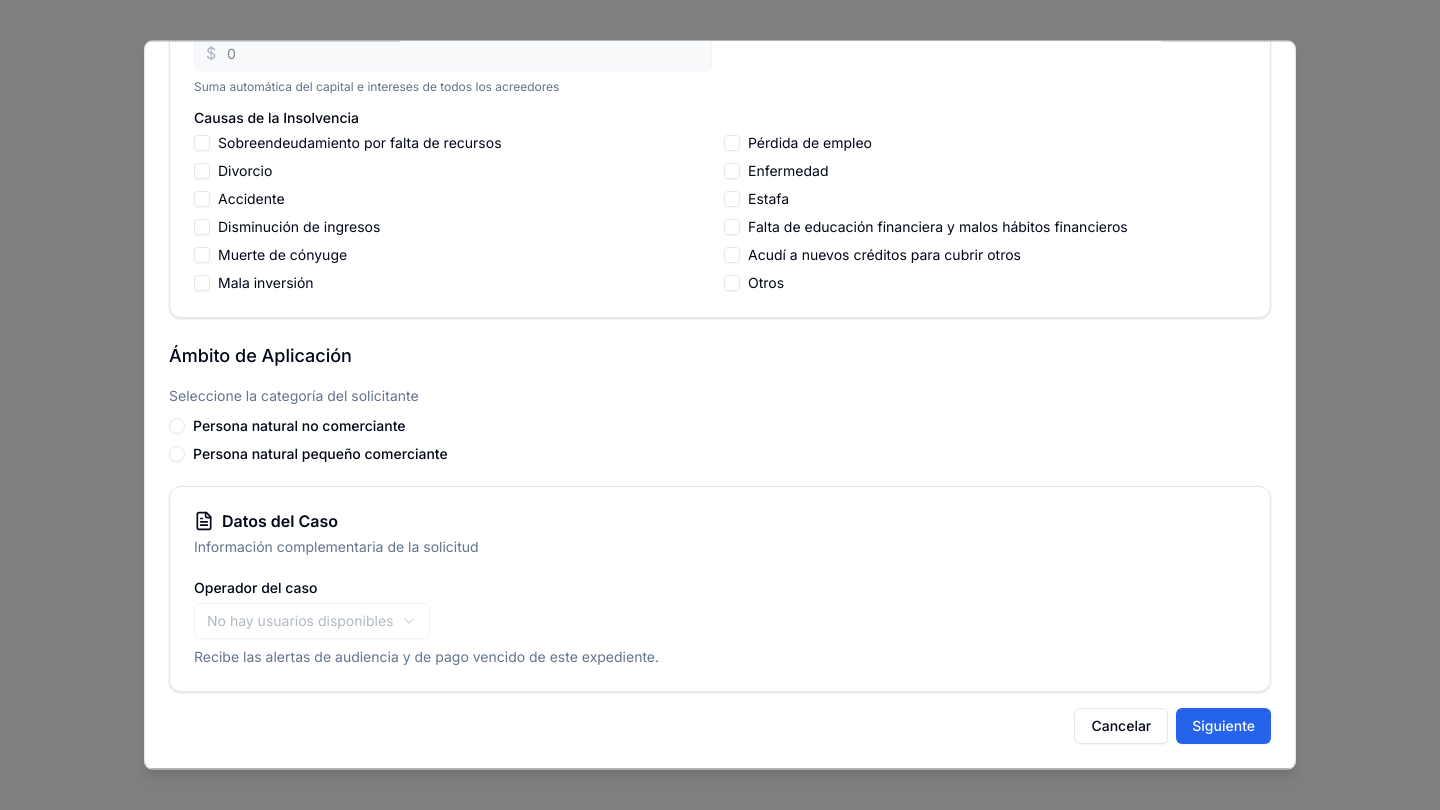
Scenario: CreateCaseDialog — "Siguiente" no envía el formulario › INSOLVENCY: recorrer el wizard con "Siguiente" llega a la última pestaña sin toast
The image size is (1440, 810).
(page scrolled)
Click the button "Siguiente" at x=1224, y=726, box x1=1176 y1=708 x2=1271 y2=744
(page scrolled)
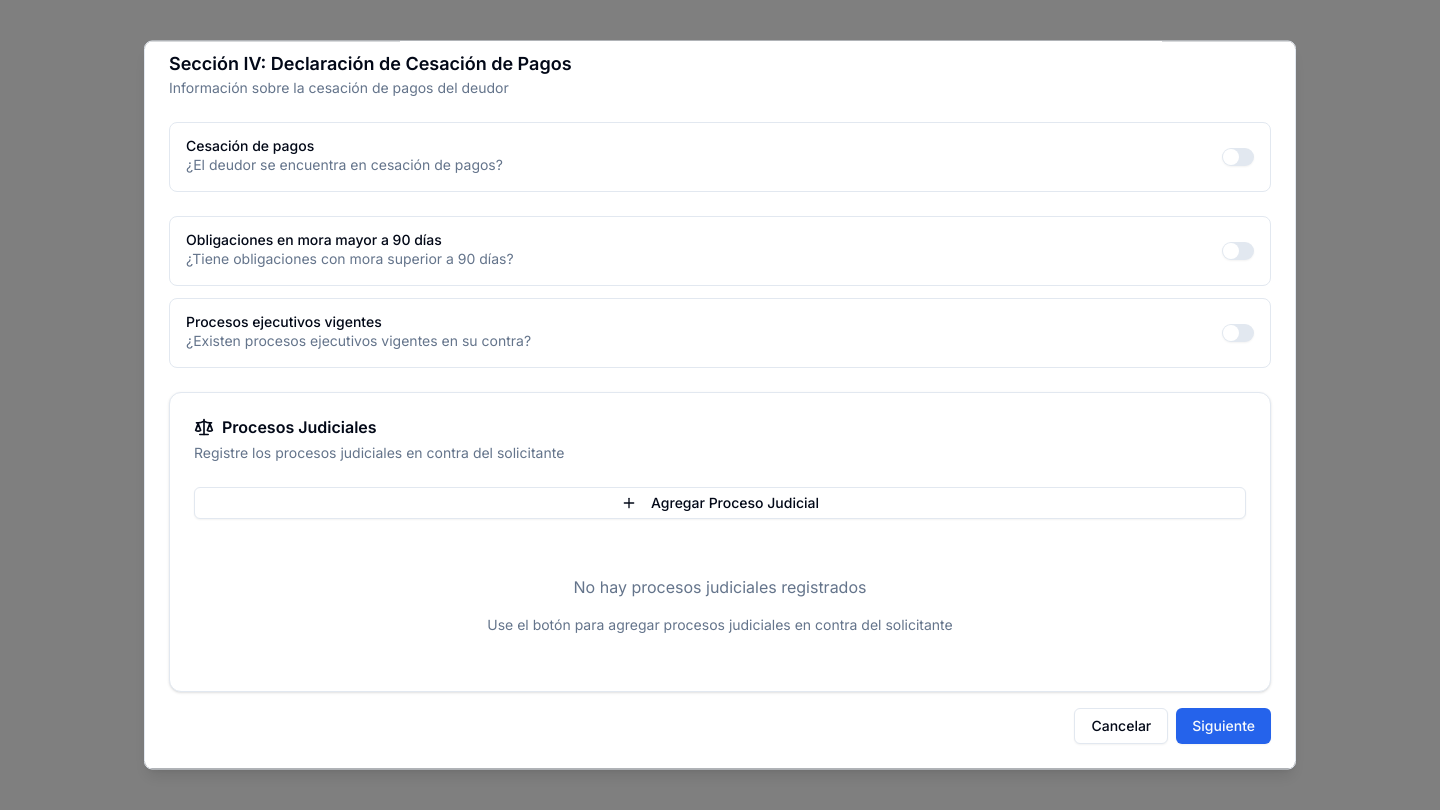
Click the button "Siguiente" at x=1224, y=726, box x1=1176 y1=708 x2=1271 y2=744
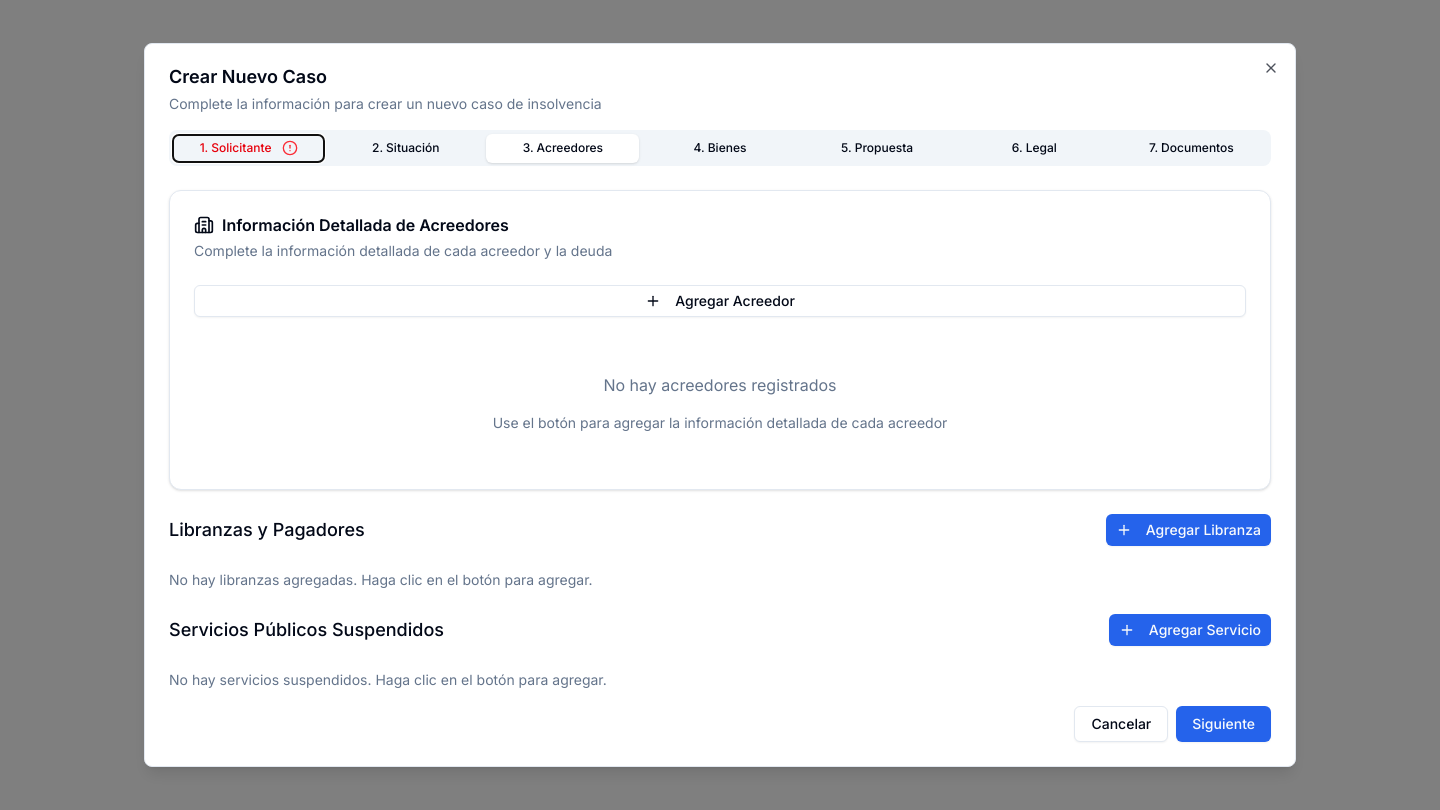
Click the button "Siguiente" at x=1224, y=724, box x1=1176 y1=706 x2=1271 y2=742
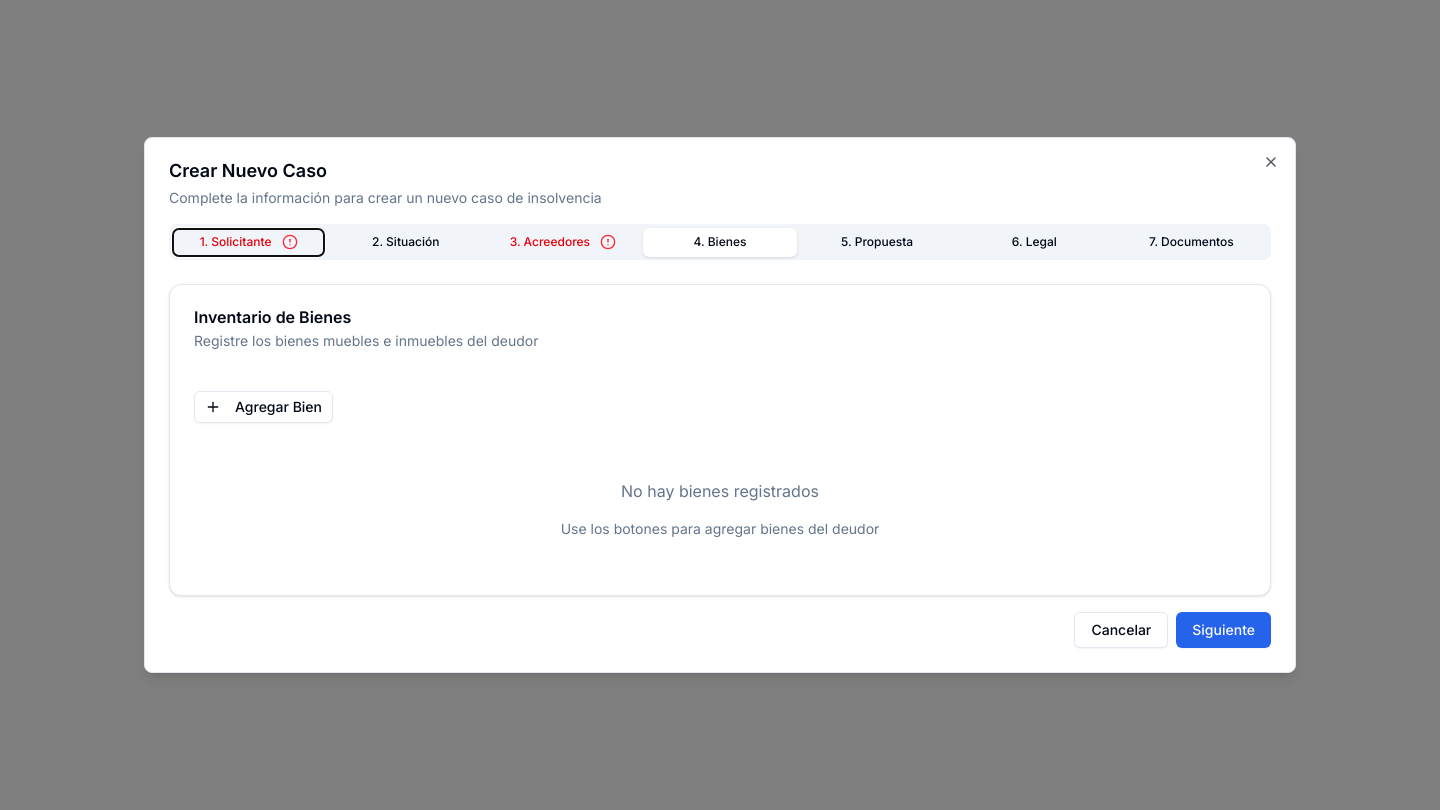
Click the button "Siguiente" at x=1224, y=630, box x1=1176 y1=612 x2=1271 y2=648
(page scrolled)
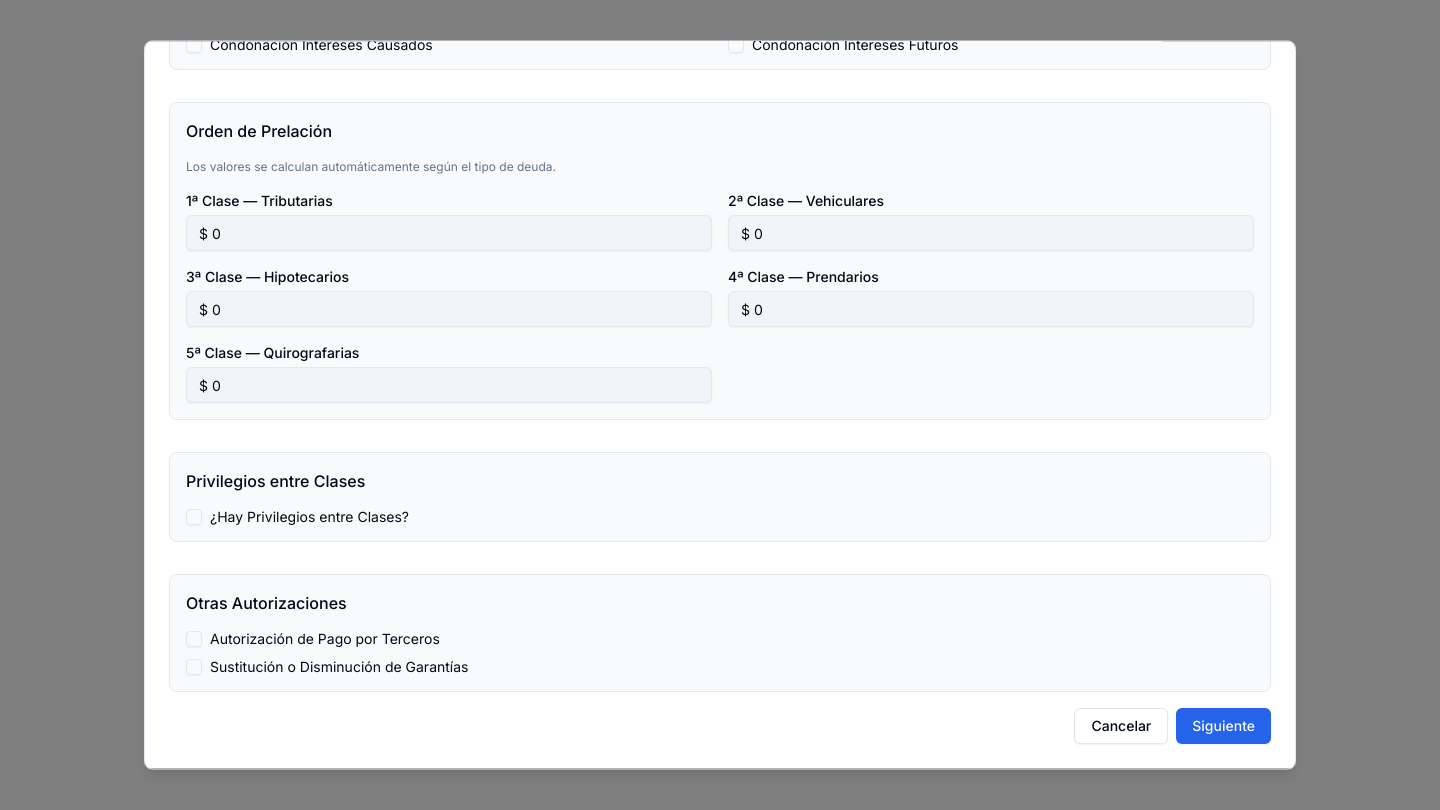
Click the button "Siguiente" at x=1224, y=726, box x1=1176 y1=708 x2=1271 y2=744
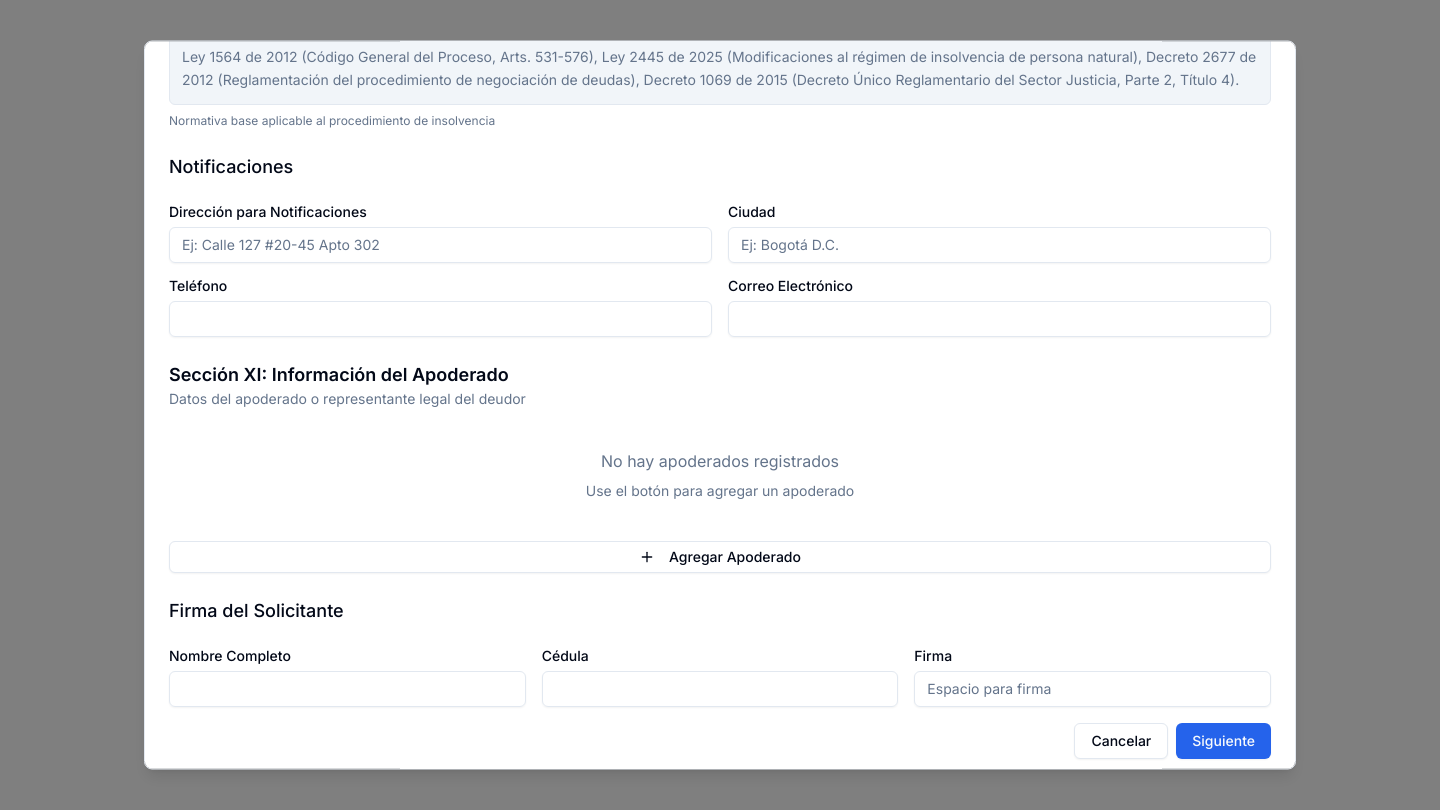
Click the button "Siguiente" at x=1224, y=741, box x1=1176 y1=723 x2=1271 y2=759
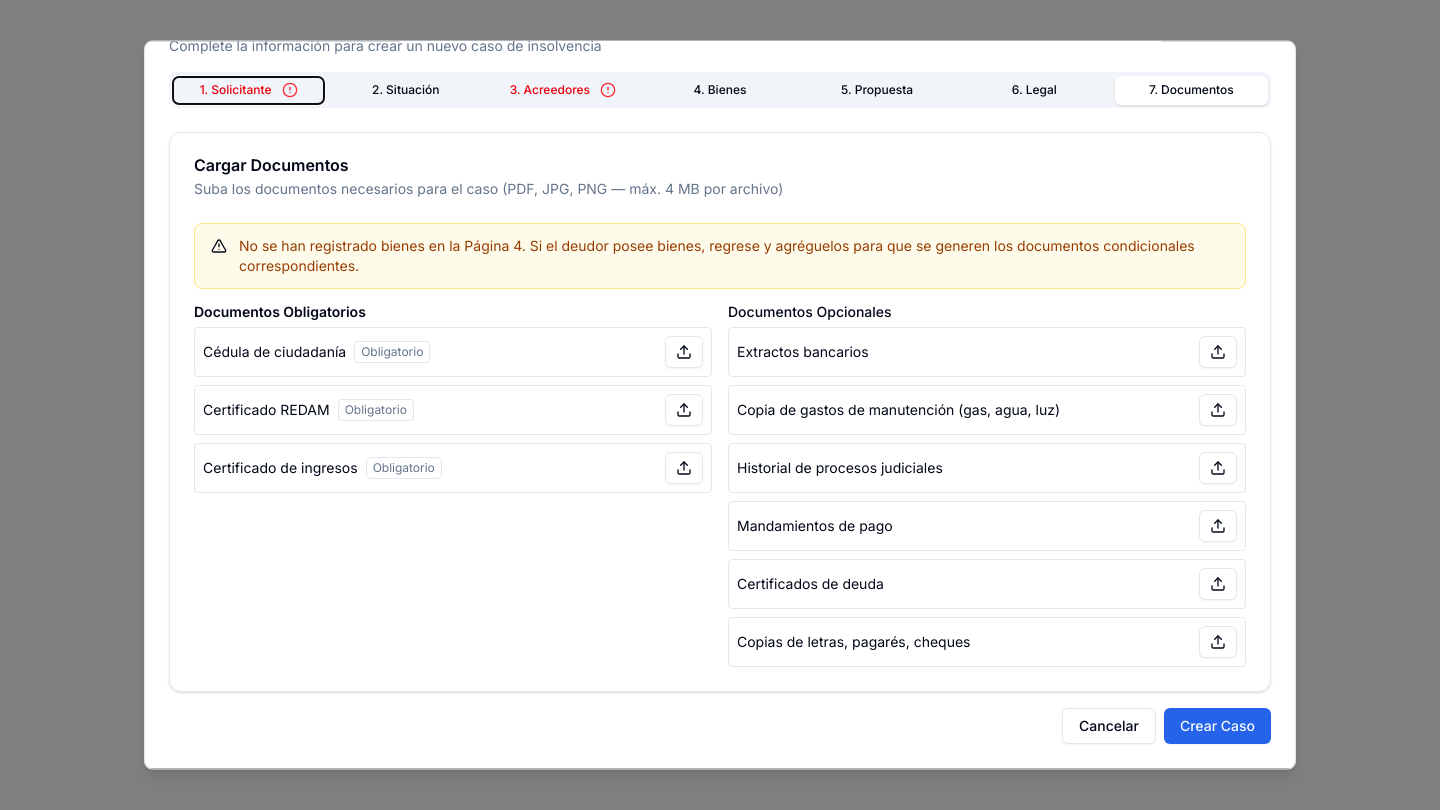
Check: the tab "7. Documentos" is shown, box x1=1115 y1=76 x2=1268 y2=105
Check: the button "Crear Caso" is shown, box x1=1164 y1=708 x2=1271 y2=744
